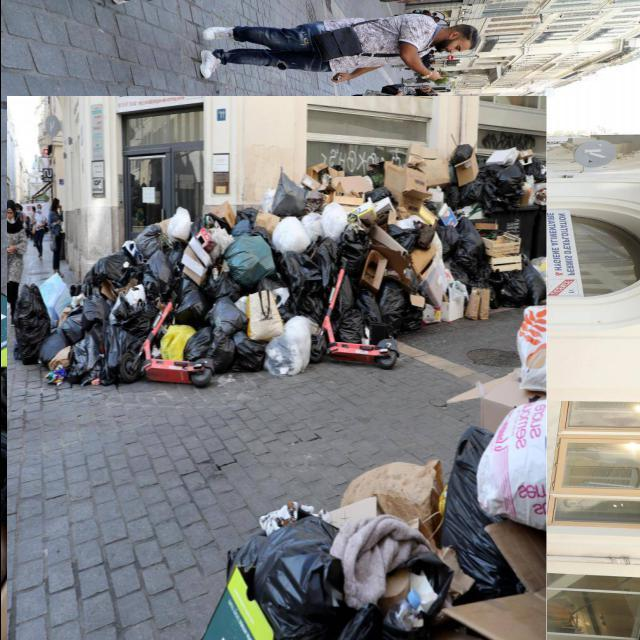Trashbag: (441, 430, 513, 590), (249, 514, 343, 636), (102, 305, 151, 378), (181, 324, 235, 378), (430, 222, 487, 273), (365, 278, 409, 336), (492, 264, 551, 306), (15, 286, 49, 357), (477, 160, 520, 213), (140, 249, 184, 295), (82, 253, 132, 291), (209, 294, 248, 338), (332, 226, 367, 271), (334, 310, 371, 352), (65, 296, 106, 333), (230, 329, 263, 370)
